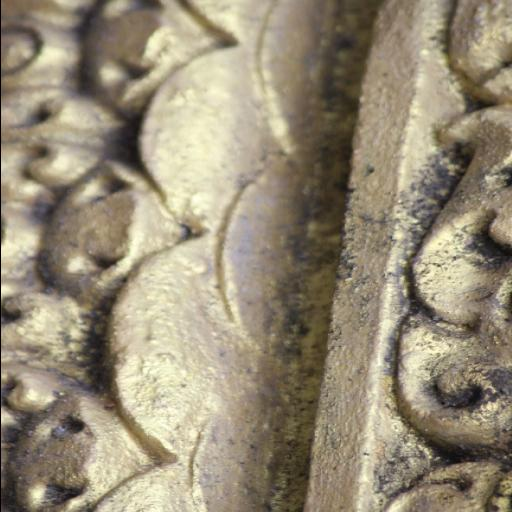la: (0, 132, 170, 368), (0, 0, 193, 129), (0, 382, 129, 512)
